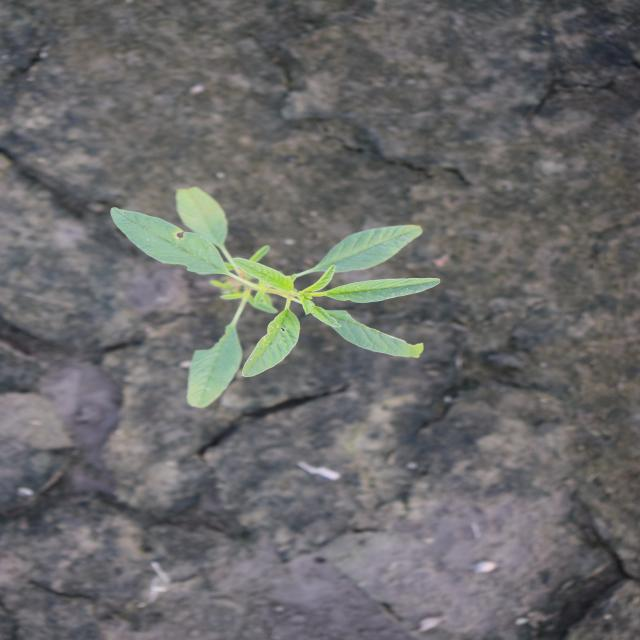Waterhemp: (104, 186, 443, 411)
